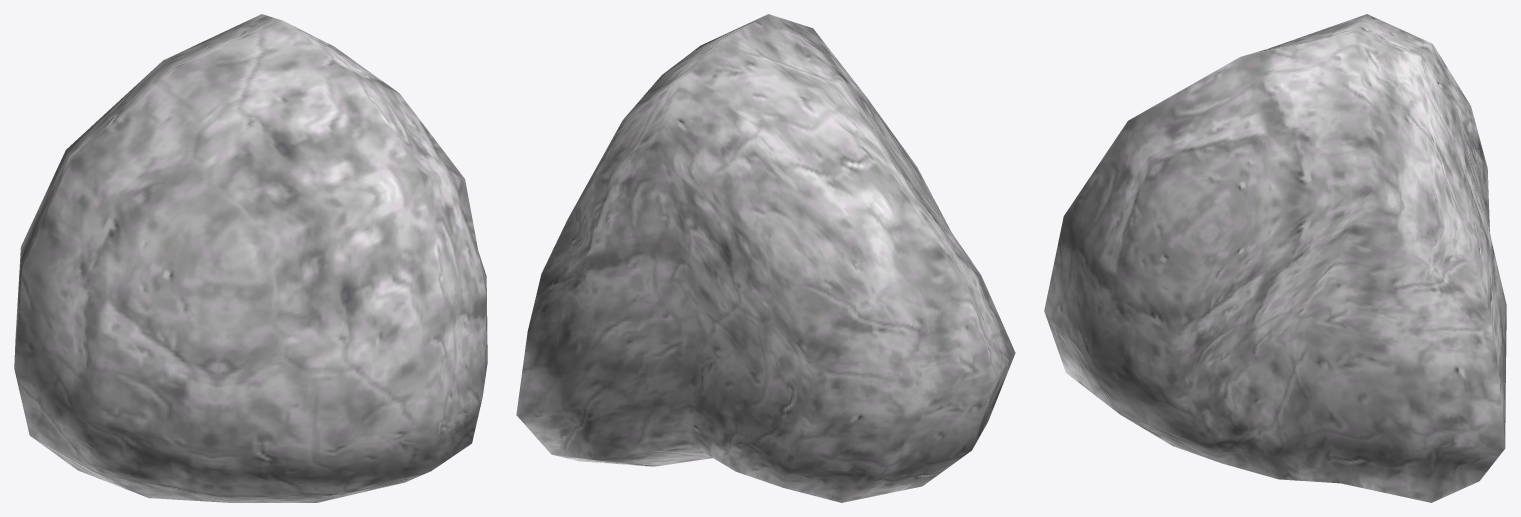
File: INST_SWORDLIGHT_ROCKF.fbx
The picture shows the model from 3 angles, left to right: view 1: azimuth 30°, elevation 25°; view 2: azimuth 150°, elevation 25°; view 3: azimuth 270°, elevation 25°; orthographic projection.
Visible parts, largest first — view 1: INST_SWORDLIGHT_ROCKF; view 2: INST_SWORDLIGHT_ROCKF; view 3: INST_SWORDLIGHT_ROCKF.
Boxes of the visible parts, left/top/right/bottom form: INST_SWORDLIGHT_ROCKF: left=14, top=14, right=487, bottom=502; INST_SWORDLIGHT_ROCKF: left=516, top=14, right=1015, bottom=502; INST_SWORDLIGHT_ROCKF: left=1044, top=14, right=1506, bottom=502.
Bounding box in the file's own units: 20621 × 20621 × 20621.
Materials: 1 (1 with a texture image).
